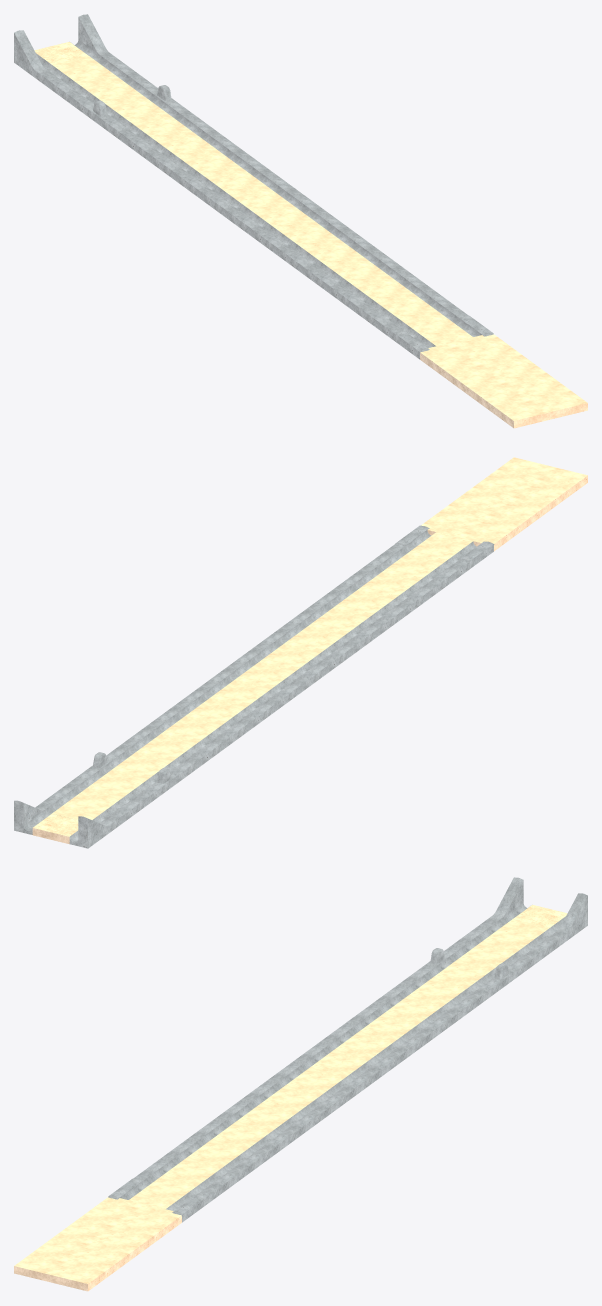
The model's file is SM_BowlingLane.fbx.
3 views of the same model, one above another, from view 1: azimuth 30°, elevation 25°; view 2: azimuth 150°, elevation 25°; view 3: azimuth 330°, elevation 25° (orthographic).
Parts seen in each view (by area): view 1: SM_BowlingLane_LOD0; view 2: SM_BowlingLane_LOD0; view 3: SM_BowlingLane_LOD0.
Part boxes in pixels (<box>): SM_BowlingLane_LOD0: <box>14,14,587,428</box>; SM_BowlingLane_LOD0: <box>14,457,587,848</box>; SM_BowlingLane_LOD0: <box>14,877,587,1291</box>.
Bounding box in the file's own units: 201 × 2340 × 80.11.
2 materials, 2 textured.
